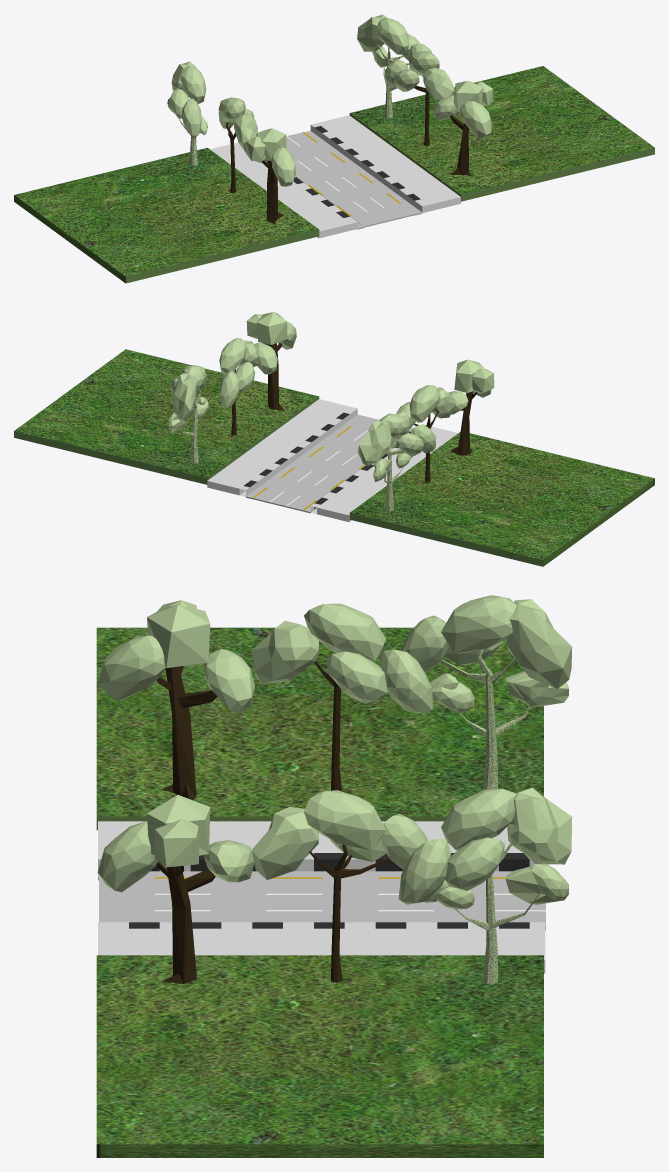
File: road3.fbx
3 views of the same model, one above another, from view 1: azimuth 30°, elevation 25°; view 2: azimuth 150°, elevation 25°; view 3: azimuth 270°, elevation 25° (orthographic). The views are drawn at different scales.
Visible parts, largest first — view 1: Grass Patch.001, Grass Patch.002, Cube.003, Pavement.004, Pavement.003, Zebra.005, instance_100.001, instance_100.006, Side.004, instance_73.004, instance_100.018, instance_100.014 (+13 smaller); view 2: Grass Patch.001, Grass Patch.002, Cube.003, Pavement.004, Pavement.003, Zebra.005, instance_100.012, instance_100.004, instance_59.013, instance_73.008, Side.004, instance_73.006 (+13 smaller); view 3: Grass Patch.002, Grass Patch.001, Cube.003, Pavement.004, instance_100.012, instance_100.004, instance_73.006, instance_73.008, instance_100.014, instance_73.004, instance_59.025, instance_73.002 (+26 smaller).
Part boxes in pixels (x1,y1,x2,y2): Grass Patch.001: (14, 148, 319, 283); Grass Patch.002: (349, 66, 654, 201); Cube.003: (286, 132, 415, 227); Pavement.004: (317, 115, 460, 211); Pavement.003: (210, 142, 351, 238); Zebra.005: (310, 123, 428, 212); instance_100.001: (460, 101, 491, 139); instance_100.006: (376, 17, 408, 54); Side.004: (304, 131, 422, 215); instance_73.004: (423, 68, 454, 101); instance_100.018: (271, 146, 295, 186); instance_100.014: (180, 65, 206, 103); Grass Patch.001: (349, 432, 654, 566); Grass Patch.002: (14, 349, 319, 484); Cube.003: (252, 416, 412, 511); Pavement.004: (207, 399, 350, 495); Pavement.003: (317, 426, 458, 521); Zebra.005: (240, 407, 357, 496); instance_100.012: (358, 421, 391, 465); instance_100.004: (172, 373, 197, 421); instance_59.013: (256, 312, 287, 344); instance_73.008: (409, 385, 440, 422); Side.004: (246, 414, 363, 498); instance_73.006: (219, 338, 246, 374); Grass Patch.002: (96, 955, 543, 1157); Grass Patch.001: (96, 627, 543, 830); Cube.003: (99, 877, 545, 930); Pavement.004: (98, 928, 545, 973); instance_100.012: (507, 599, 571, 688); instance_100.004: (507, 787, 572, 864); instance_73.006: (304, 790, 385, 850); instance_73.008: (304, 603, 385, 661); instance_100.014: (441, 595, 516, 653); instance_73.004: (251, 807, 318, 879); instance_59.025: (147, 605, 210, 667); instance_73.002: (251, 620, 318, 683).
Bounding box in the file's own units: 8201 × 1572 × 3190.
11 materials, 1 textured.
